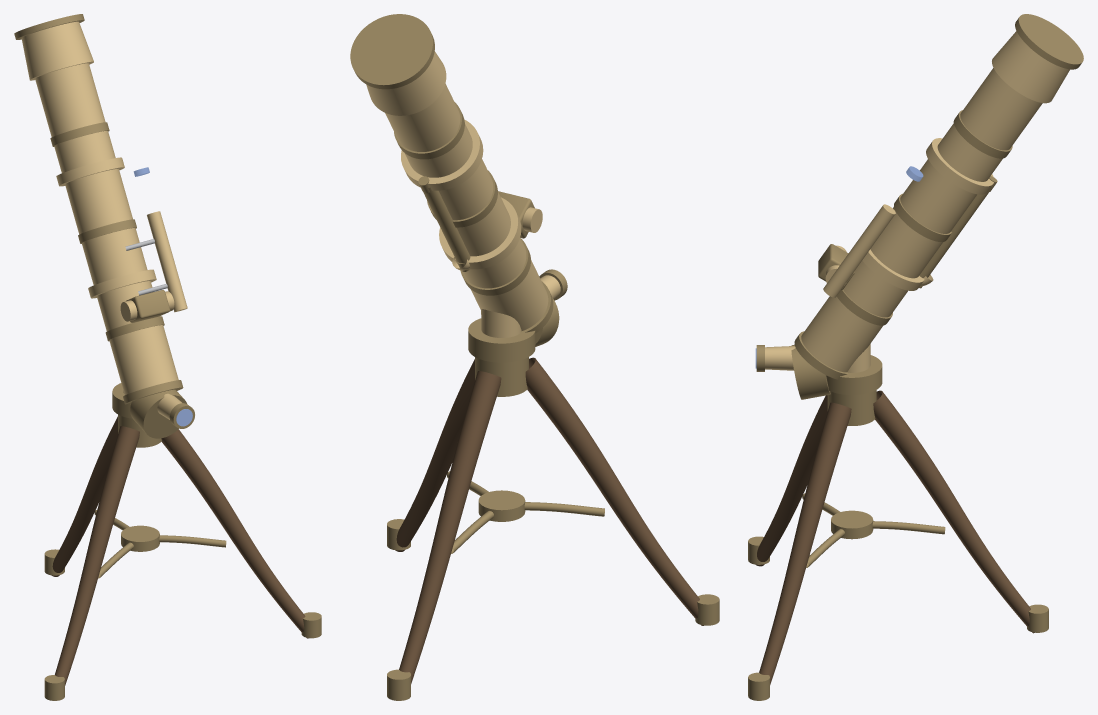
Rendered from telescope.glb.
3 renders of one model, left to right at view 1: azimuth 30°, elevation 25°; view 2: azimuth 150°, elevation 25°; view 3: azimuth 270°, elevation 25°, orthographic. The views are drawn at different scales.
Visible parts, largest first — view 1: telescope; view 2: telescope; view 3: telescope.
Boxes of the visible parts, left/top/right/bottom form: telescope: left=14, top=14, right=321, bottom=700; telescope: left=350, top=14, right=719, bottom=700; telescope: left=748, top=14, right=1083, bottom=700.
Size of the model in its own units: 0.8141 by 1.6 by 0.7947.
